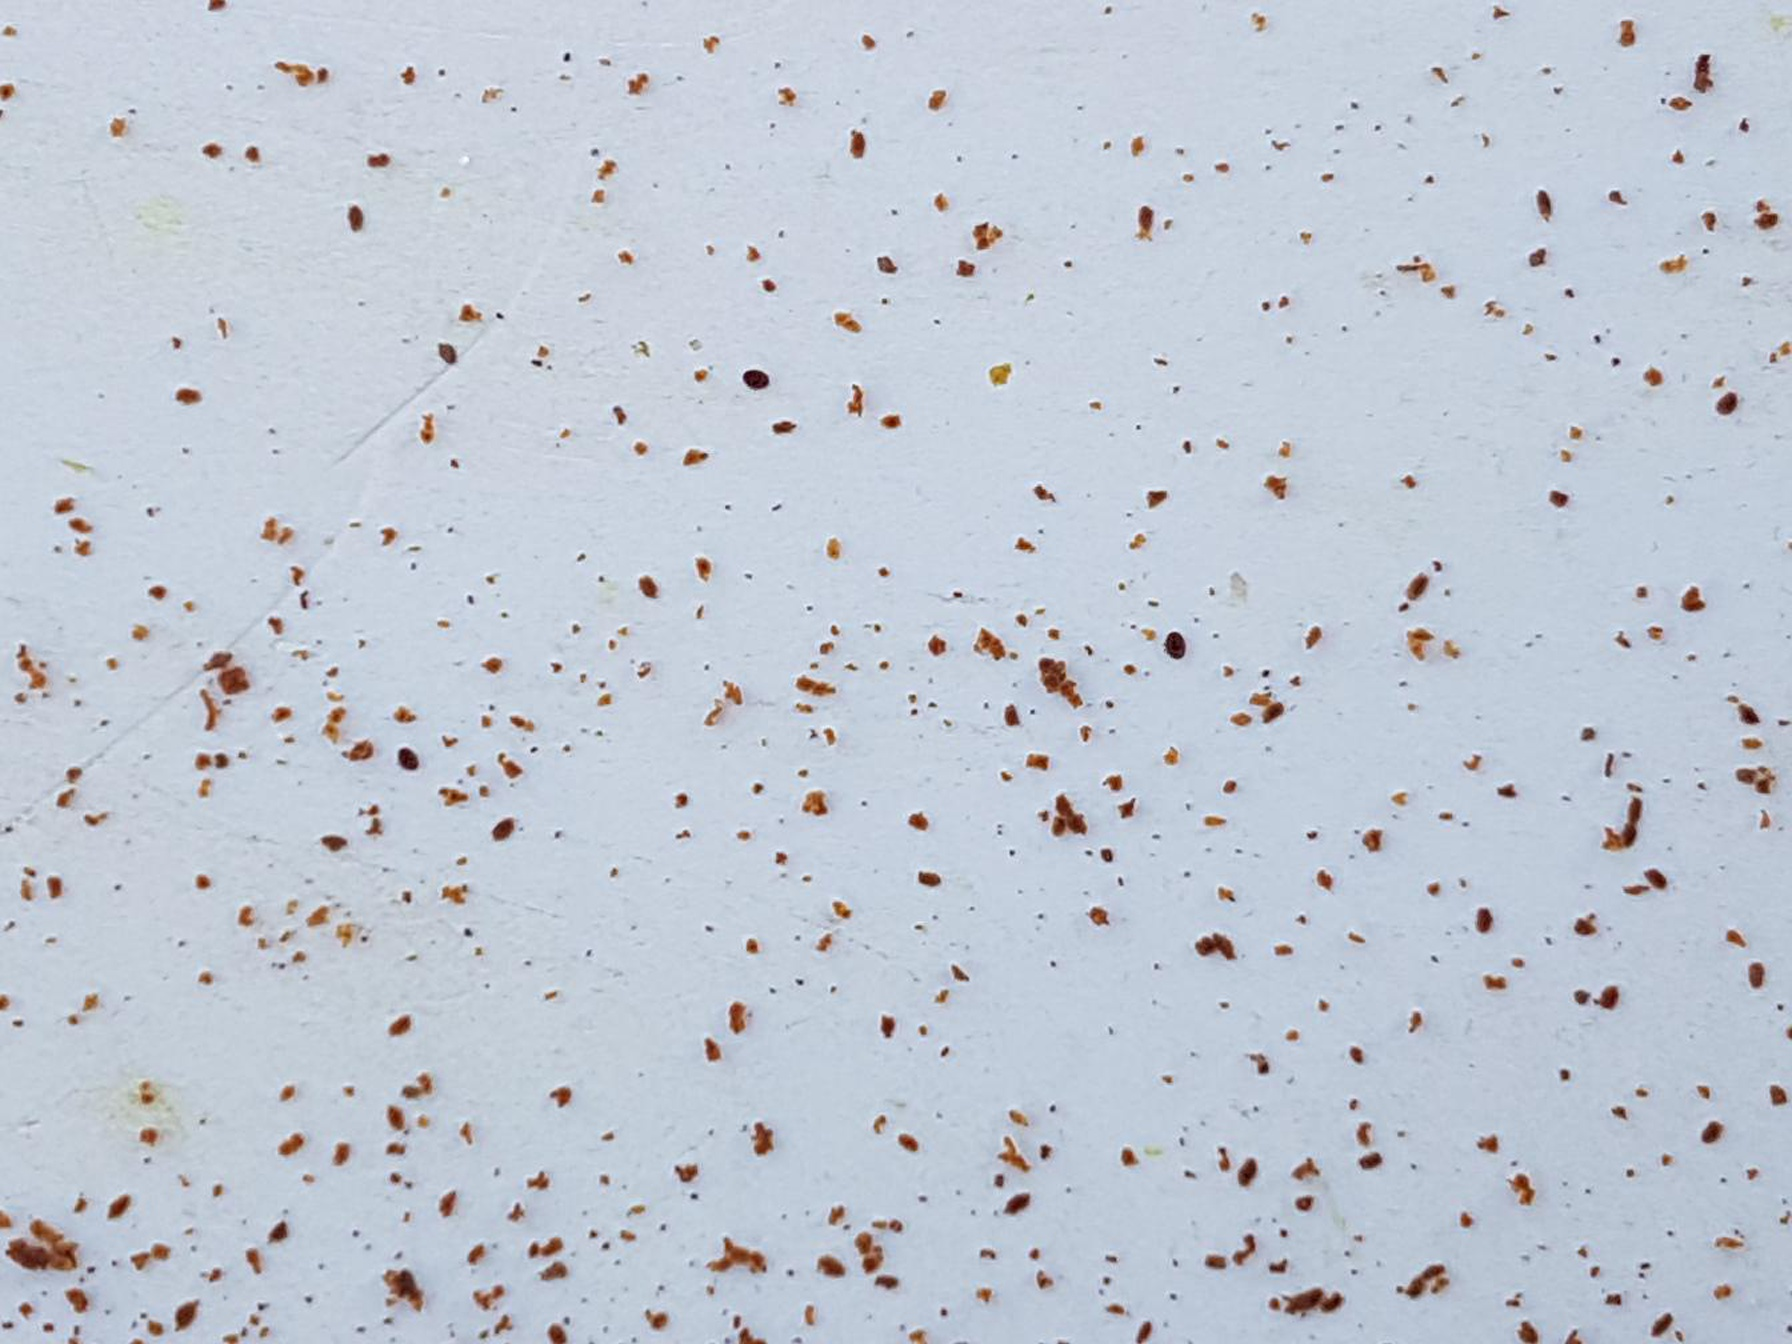Varroa: (392, 745, 420, 774), (1163, 630, 1189, 659), (741, 366, 769, 392), (1714, 392, 1738, 418)
